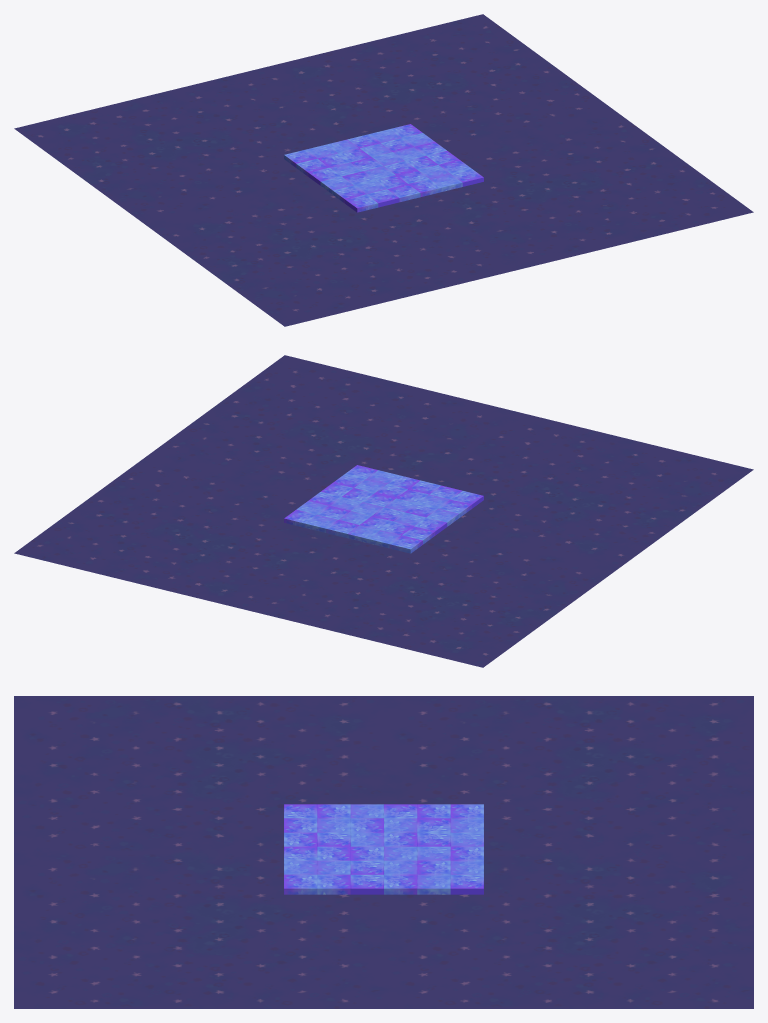
File: ingamemap6x6.fbx
3 views of the same model, one above another, from view 1: azimuth 30°, elevation 25°; view 2: azimuth 150°, elevation 25°; view 3: azimuth 270°, elevation 25° (orthographic). The views are drawn at different scales.
Visible parts, largest first — view 1: Cube.012, map6x6; view 2: Cube.012, map6x6; view 3: Cube.012, map6x6.
Boxes of the visible parts, x1,y1,x2,y2 form: Cube.012: (14,14,753,326); map6x6: (284,124,483,212); Cube.012: (14,355,753,667); map6x6: (284,465,483,553); Cube.012: (14,696,753,1008); map6x6: (284,804,483,894).
Bounding box in the file's own units: 4000 × 180 × 4000.
Materials: 3 (3 with a texture image).
